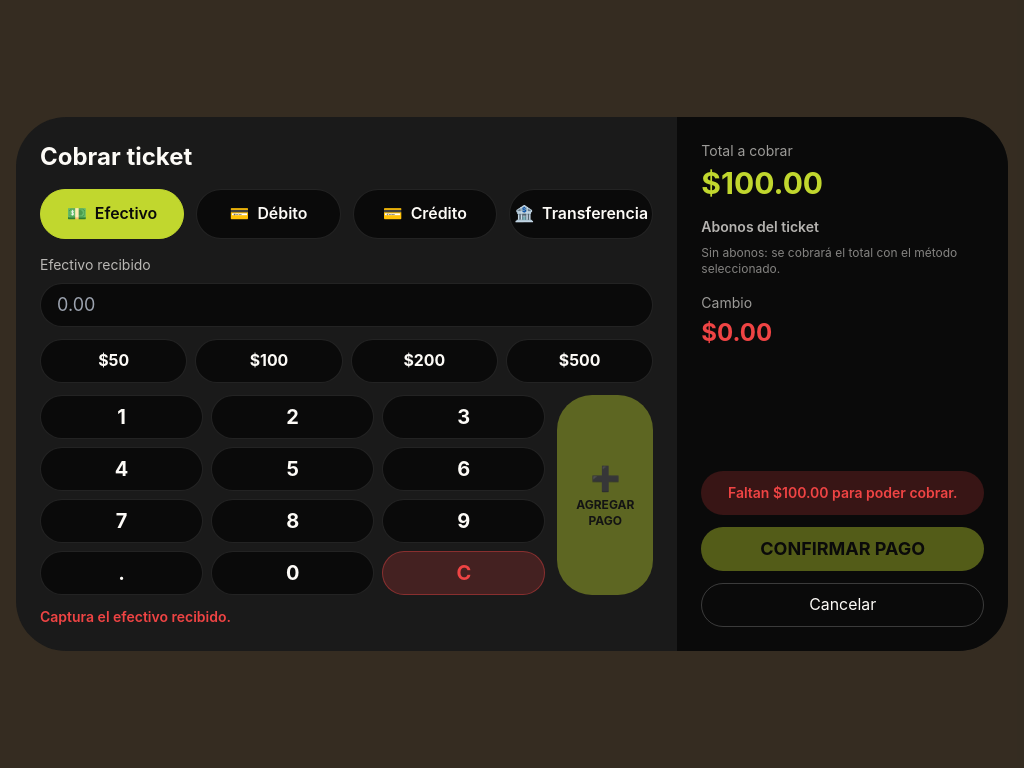
Test case: F9.1.3 — agregar pagos y ver el faltante › agrega un segundo abono (tarjeta) y el faltante llega a cero
Type "40" into the number field labelled "Efectivo recibido".
click(347, 305); type("40")  # box top-left (40, 283), bottom-right (653, 327)
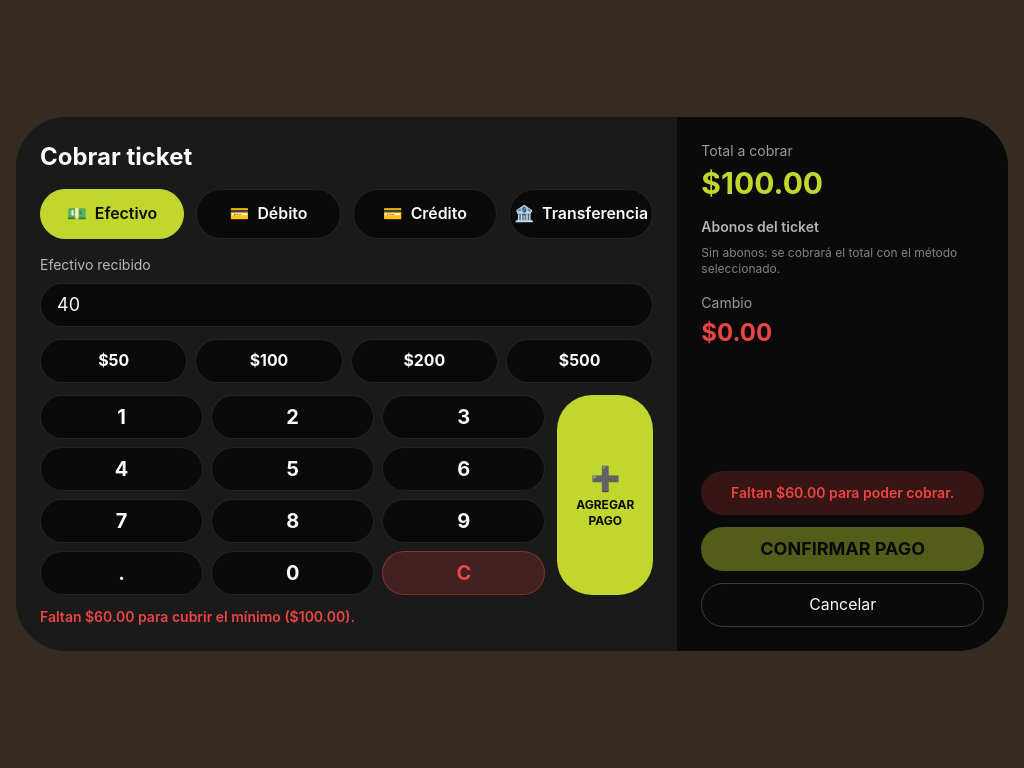
Click the button "➕ Agregar pago".
click(605, 495)  # box top-left (557, 395), bottom-right (653, 595)
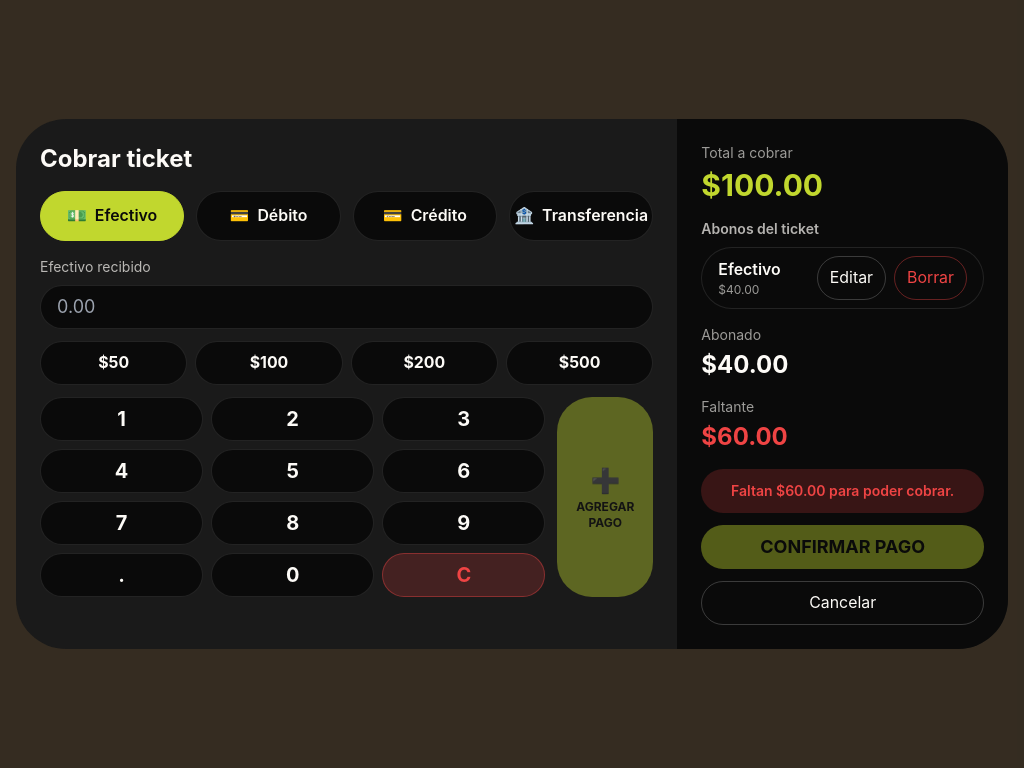
Click the button "💳 Débito".
click(268, 216)  # box top-left (196, 191), bottom-right (341, 241)
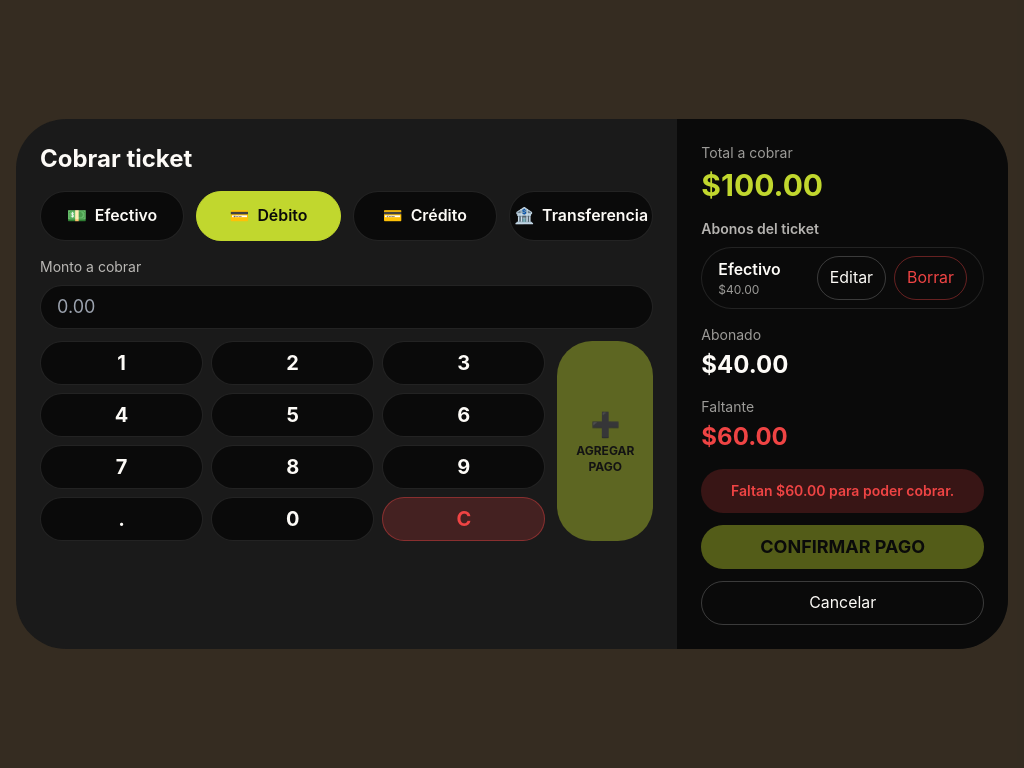
Type "60" into the number field labelled "Monto a cobrar".
click(347, 307); type("60")  # box top-left (40, 285), bottom-right (653, 329)
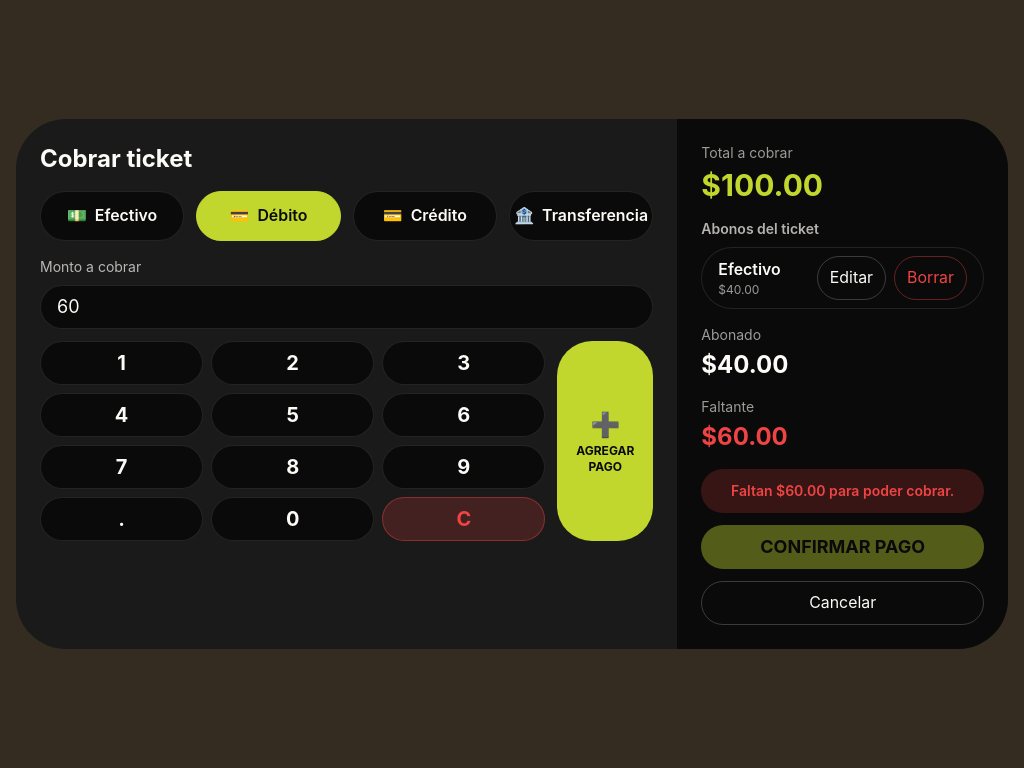
Click the button "➕ Agregar pago".
click(605, 441)  # box top-left (557, 341), bottom-right (653, 541)
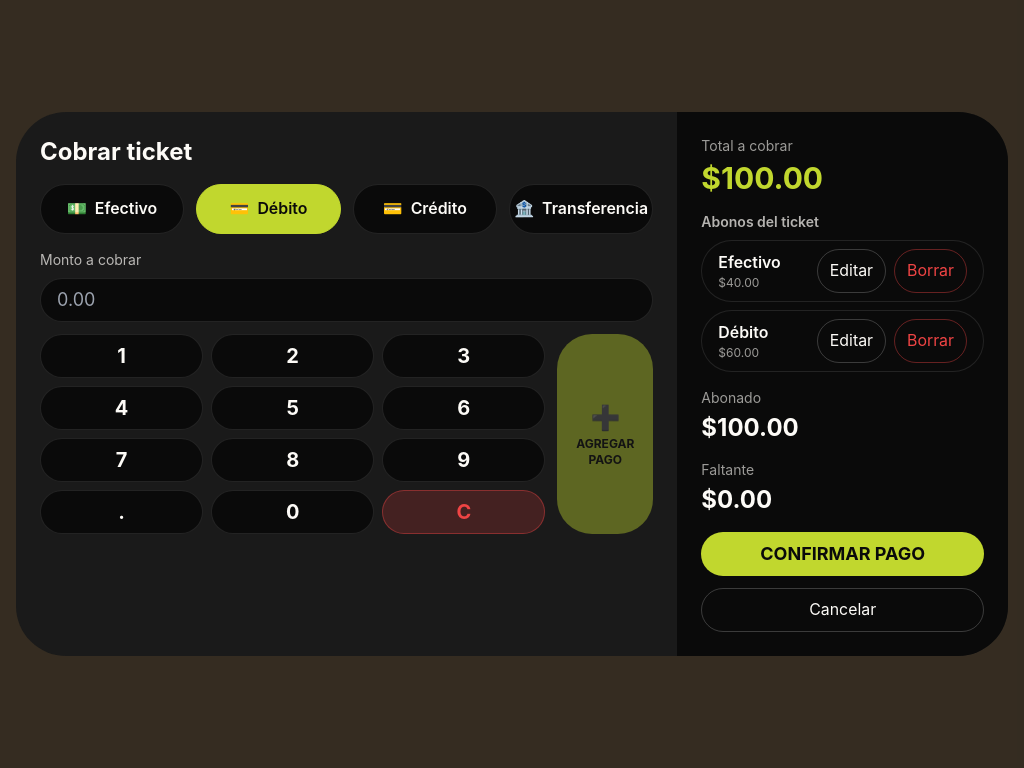
Expected: the number of list items is 2, top-left (701, 240), bottom-right (984, 302); top-left (701, 310), bottom-right (984, 372)
Expected: the text "$0.00" is shown, top-left (701, 485), bottom-right (772, 514)
